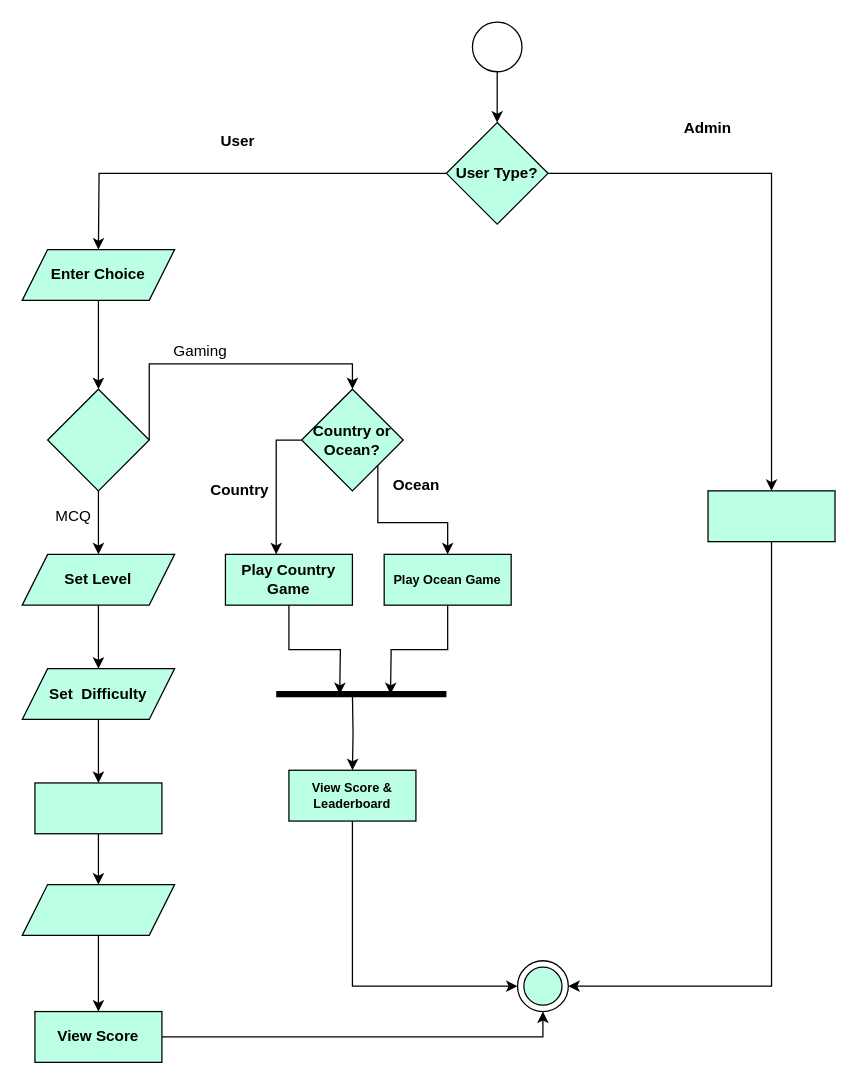
The diagram is 857 pixels wide and 1085 high, and some of its shapes have lost their labels. The centre of each missing label's shape, as x and y in pixels:
"Give Answers" goes at (98,909).
"MCQ or Gaming?" goes at (97,439).
"See Question" goes at (98,808).
"Set Question" goes at (771,516).
